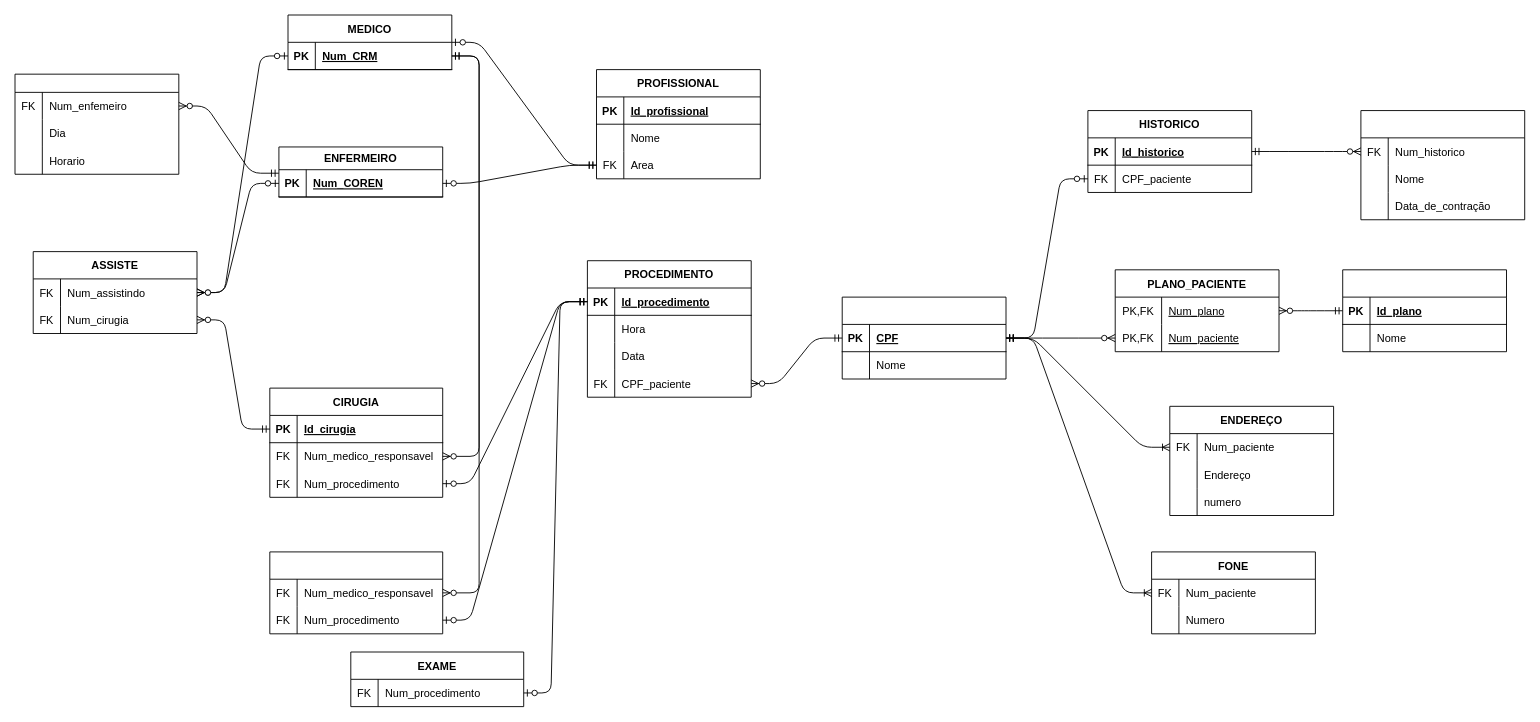
Image size: 1540x722. Some labels were removed from this diagram. The shapes that lost their labels are listed below. From the top down, each one's box as (x1, y1, x2, y2) in pixels, then its label:
(14, 73, 179, 174): PLANTAO
(1360, 110, 1525, 220): DOENÇA
(1342, 269, 1507, 352): PLANO_DE_SAUDE
(841, 296, 1006, 379): PACIENTE
(269, 551, 443, 634): CONSULTA
